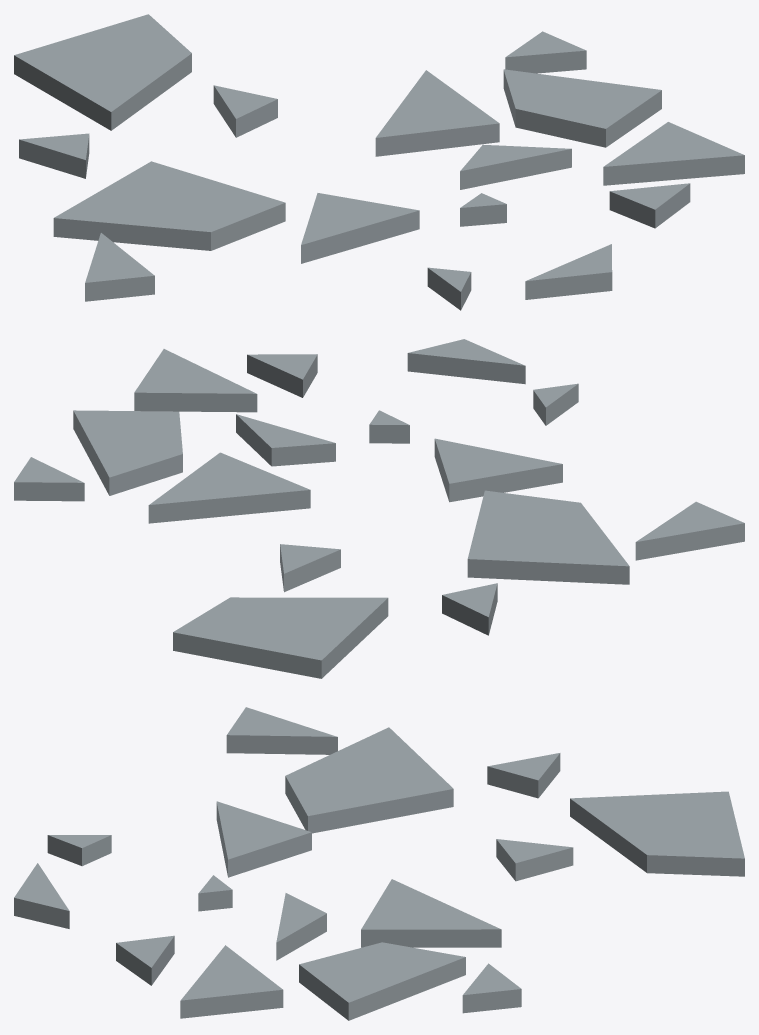
File: SM_Prop_Glass_Shards_02.fbx
3 renders of one model, top to bottom at view 1: azimuth 30°, elevation 25°; view 2: azimuth 150°, elevation 25°; view 3: azimuth 270°, elevation 25°, orthographic. The views are drawn at different scales.
Visible parts, largest first — view 1: SM_Prop_Glass_Shards_02; view 2: SM_Prop_Glass_Shards_02; view 3: SM_Prop_Glass_Shards_02.
Part boxes in pixels (<box>): SM_Prop_Glass_Shards_02: <box>14,14,744,310</box>; SM_Prop_Glass_Shards_02: <box>14,339,744,678</box>; SM_Prop_Glass_Shards_02: <box>14,707,744,1020</box>.
Bounding box in the file's own units: 119 × 3.38 × 124.
